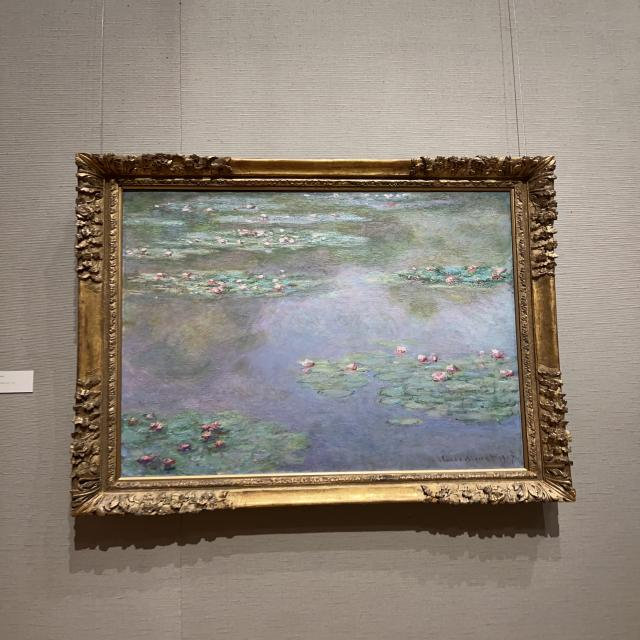lilies: (121, 192, 521, 476)
